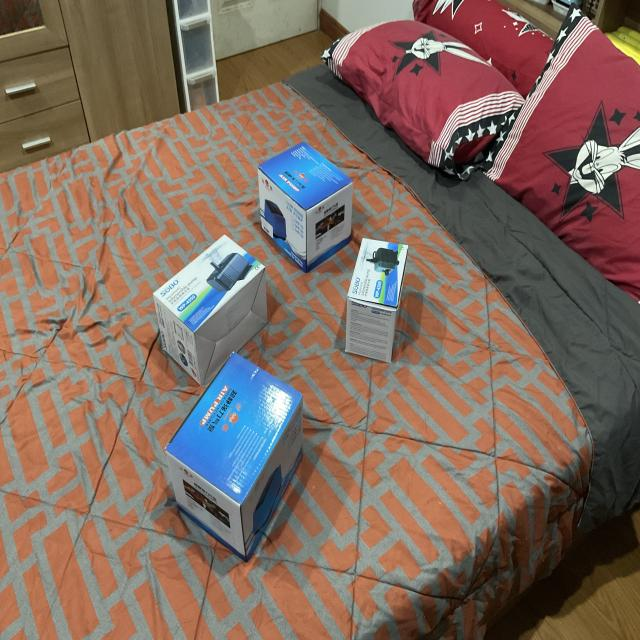SOBO_WP_4200: (148, 219, 267, 374), (338, 228, 420, 372)
YAMANO_LPP_20: (160, 350, 307, 560), (252, 123, 354, 271)
